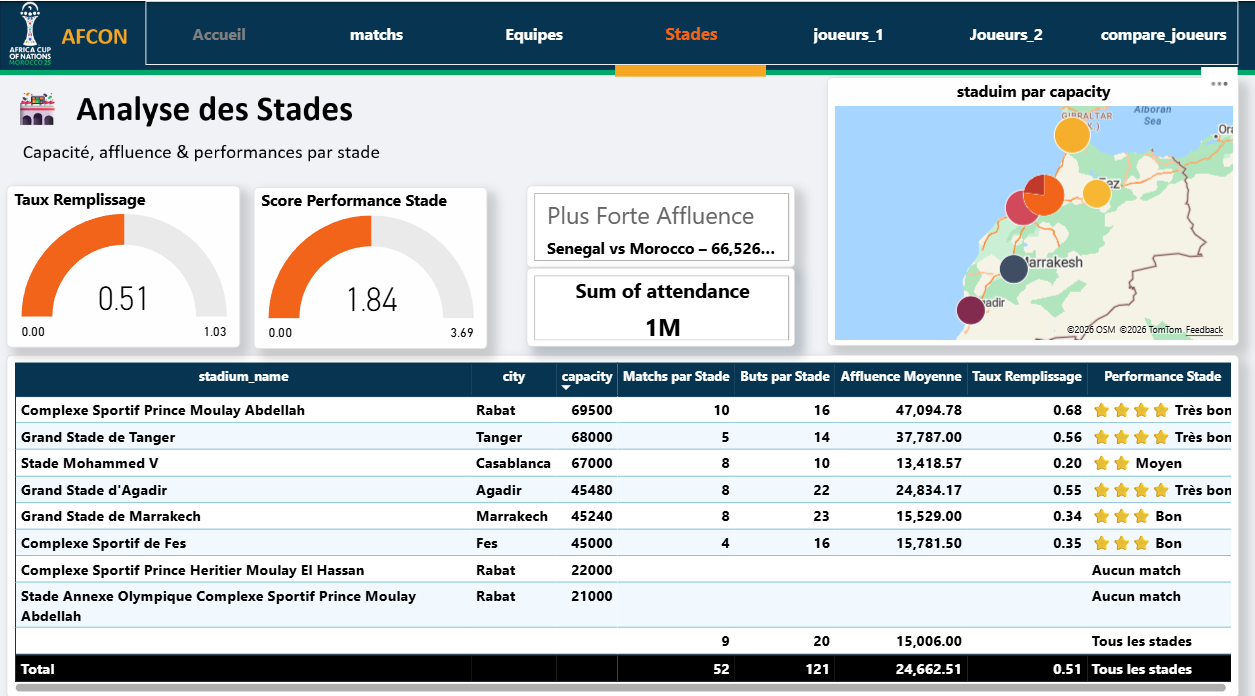

The dashboard page shown, as its layout file describes it:
{"tool":"powerbi","page":{"name":"Stades","canvas":[1280,720],"ordinal":3},"visuals":[{"type":"azureMap","title":"staduim par capacity","fields":{"Y":["africa_cup_dw dim_stadium.latitude"],"X":["africa_cup_dw dim_stadium.longitude"],"Series":["africa_cup_dw dim_stadium.stadium_name"],"Size":["Sum(africa_cup_dw dim_stadium.capacity)"]},"box":[842.4,78,418.6,272.9],"z":0},{"type":"tableEx","fields":{"Values":["africa_cup_dw dim_stadium.stadium_name","africa_cup_dw dim_stadium.city","africa_cup_dw dim_stadium.capacity","africa_cup_dw dim_stadium.Matchs par Stade","africa_cup_dw dim_stadium.Buts par Stade","africa_cup_dw dim_stadium.Affluence Moyenne","africa_cup_dw dim_stadium.Taux Remplissage","africa_cup_dw dim_stadium.Performance Stade"]},"box":[8.5,359.3,1252.5,349.2],"z":1000},{"type":"gauge","fields":{"Y":["africa_cup_dw dim_stadium.Taux Remplissage"]},"box":[8.5,188.1,237.3,164.4],"z":2000},{"type":"gauge","fields":{"Y":["africa_cup_dw dim_stadium.Score Performance Stade"]},"box":[259.3,189.8,237.3,164.4],"z":3000},{"type":"cardVisual","fields":{"Data":["africa_cup_dw dim_stadium.Plus Forte Affluence"]},"box":[536.4,188.1,273.1,83.4],"z":4000},{"type":"cardVisual","fields":{"Data":["Sum(africa_cup_dw fact_matches.attendance)"]},"box":[536.4,271.5,273.1,80.1],"z":5000},{"type":"pageNavigator","box":[148.8,0,1111.5,65.1],"z":6000},{"type":"shape","title":"report-accent","box":[626.3,65.1,153.5,12],"z":7000}]}

Visuals, with their boxes on the page's 1280x720 design canvas (x1, y1, x2, y2). These are canvas units, not pixel positions in the 1255x696 screenshot, which may show the page scaled, cropped or inside an application window:
"staduim par capacity" azureMap: 842:78:1261:351
tableEx - africa_cup_dw dim_stadium.stadium_name x africa_cup_dw dim_stadium.city: 8:359:1261:708
gauge - africa_cup_dw dim_stadium.Taux Remplissage: 8:188:246:352
gauge - africa_cup_dw dim_stadium.Score Performance Stade: 259:190:497:354
cardVisual - africa_cup_dw dim_stadium.Plus Forte Affluence: 536:188:810:272
cardVisual - Sum(africa_cup_dw fact_matches.attendance): 536:272:810:352
pageNavigator: 149:0:1260:65
"report-accent" shape: 626:65:780:77
